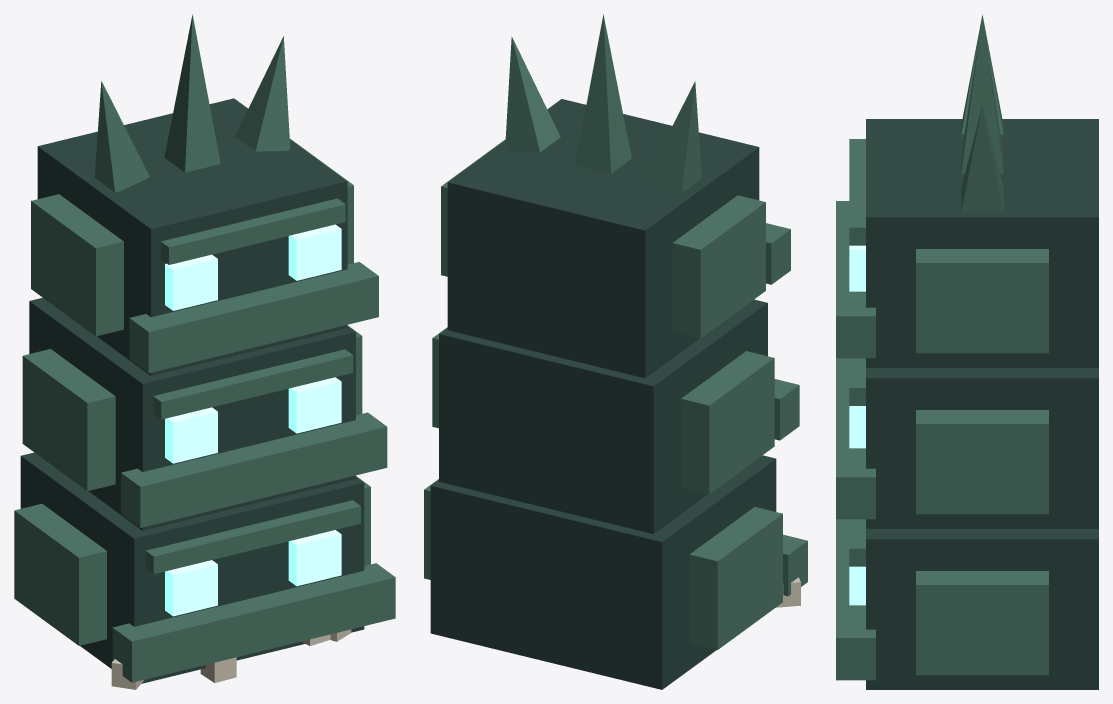
3 views of the same model, side by side, from view 1: azimuth 30°, elevation 25°; view 2: azimuth 150°, elevation 25°; view 3: azimuth 270°, elevation 25° (orthographic). The views are drawn at different scales.
Parts seen in each view (by area): view 1: R045_Accent, R045_Main, R045_Glow, R045_Trim; view 2: R045_Main, R045_Accent; view 3: R045_Main, R045_Accent, R045_Glow.
Boxes of the visible parts, bbox=[...] form: R045_Accent: bbox=[14, 14, 395, 682]; R045_Main: bbox=[20, 98, 364, 683]; R045_Glow: bbox=[165, 224, 341, 616]; R045_Trim: bbox=[111, 629, 351, 689]; R045_Main: bbox=[430, 99, 776, 689]; R045_Accent: bbox=[424, 14, 807, 649]; R045_Main: bbox=[866, 119, 1098, 689]; R045_Accent: bbox=[836, 14, 1048, 680]; R045_Glow: bbox=[849, 245, 865, 605].
Bounding box in the file's own units: 1.04 × 2.08 × 0.79.
